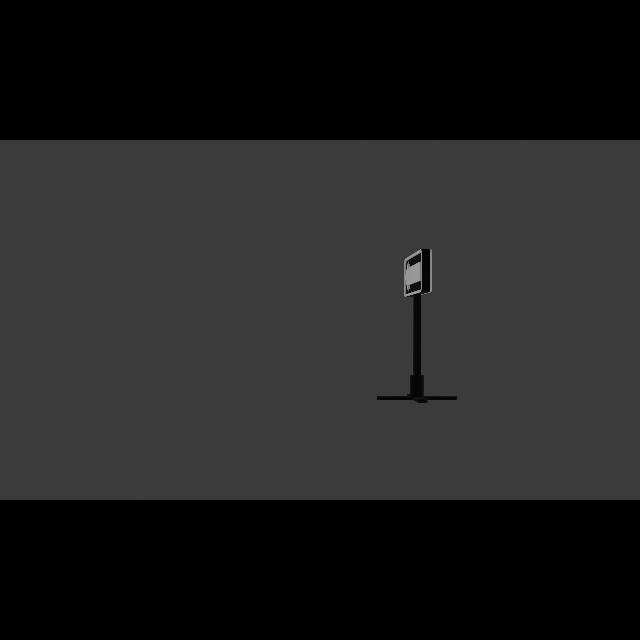sign_oneway_left: (402, 248, 434, 300)
